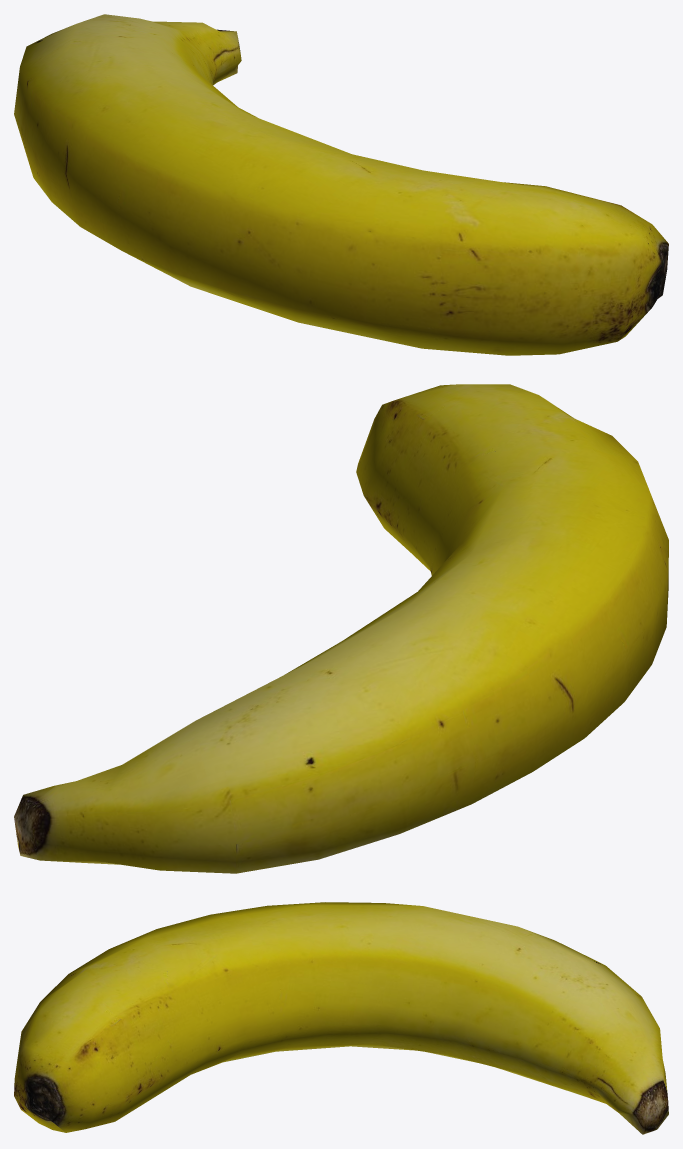
Rendered from banana_55180008_visual.obj.
The picture shows the model from 3 angles, top to bottom: view 1: azimuth 30°, elevation 25°; view 2: azimuth 150°, elevation 25°; view 3: azimuth 270°, elevation 25°; orthographic projection. The views are drawn at different scales.
Bounding box in the file's own units: 0.0728 × 0.03 × 0.1346.
1 material, 1 textured.
